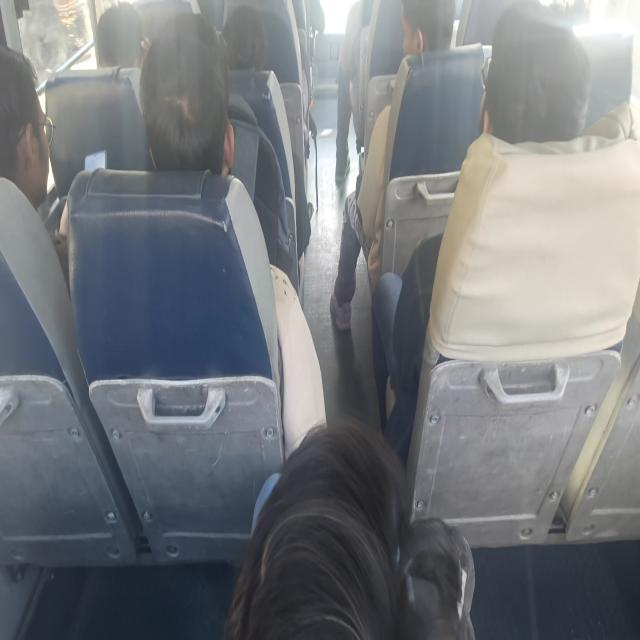person: (230, 411, 480, 640), (465, 32, 618, 159), (152, 29, 228, 193), (0, 60, 62, 216), (216, 0, 266, 87), (91, 1, 143, 76), (398, 0, 449, 71)
